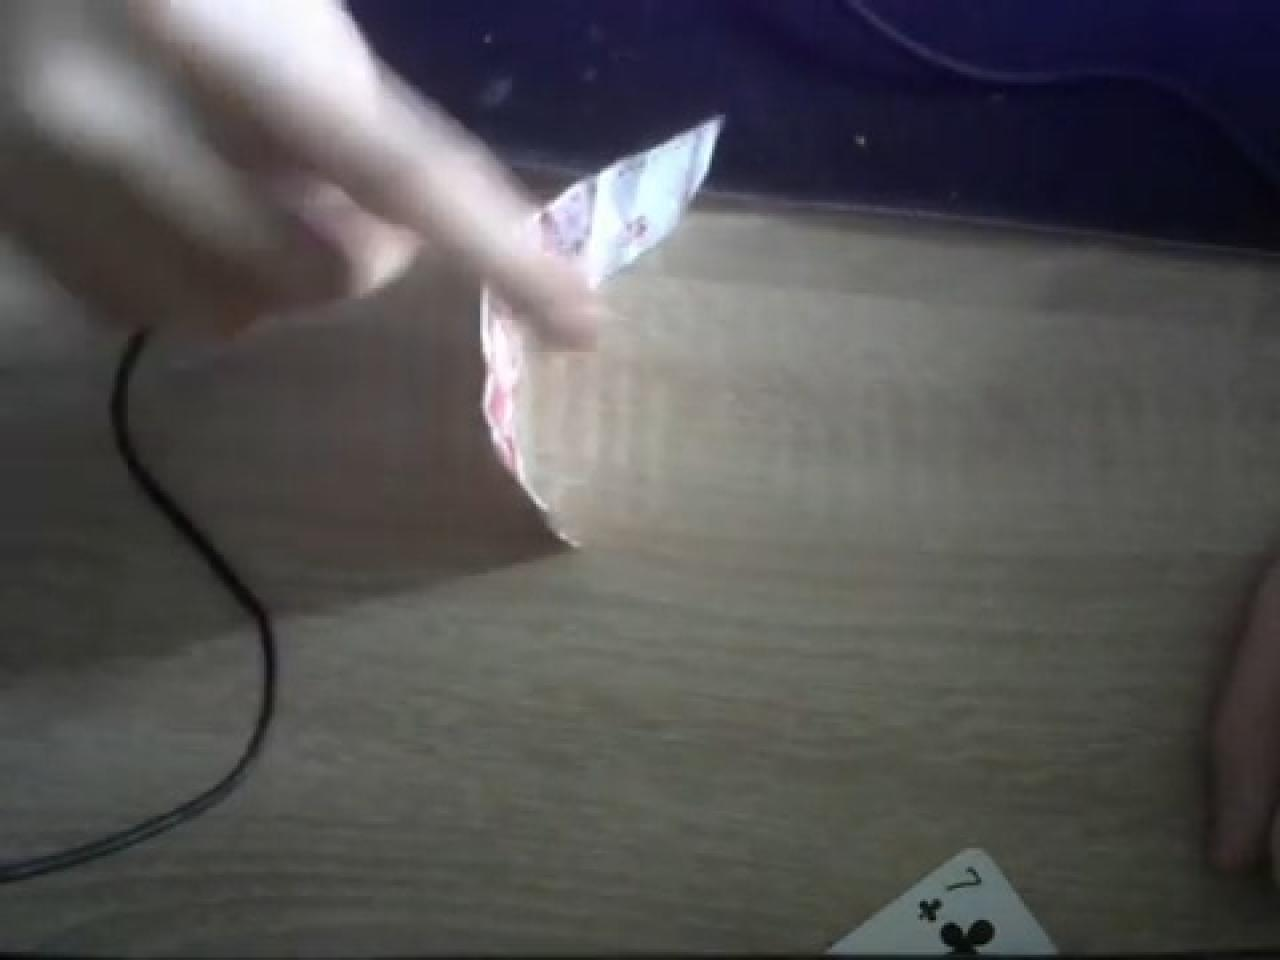5leva: (538, 117, 723, 290)
